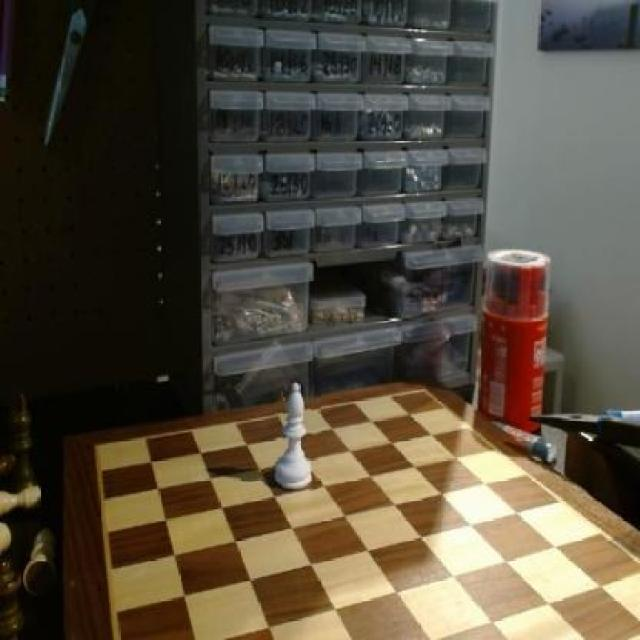black-rook: (274, 378, 320, 496)
